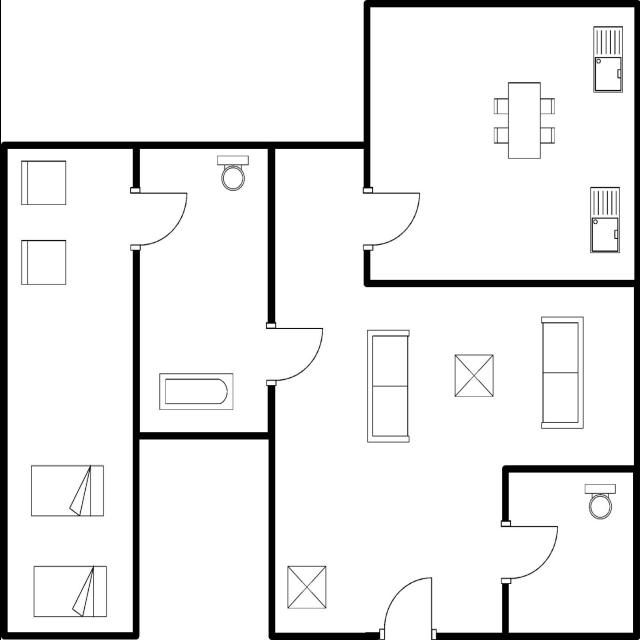bed: (27, 558, 112, 622), (26, 458, 108, 523)
coffee_table: (448, 348, 498, 406), (282, 560, 330, 614)
dining_table: (488, 76, 558, 162)
large_sink: (579, 480, 621, 525), (210, 152, 255, 194)
large_sofa: (536, 310, 590, 434), (362, 323, 414, 448)
sink: (584, 180, 622, 258), (588, 20, 626, 96)
small_sofa: (16, 155, 70, 211), (17, 235, 70, 291)
tub: (154, 367, 236, 415)
